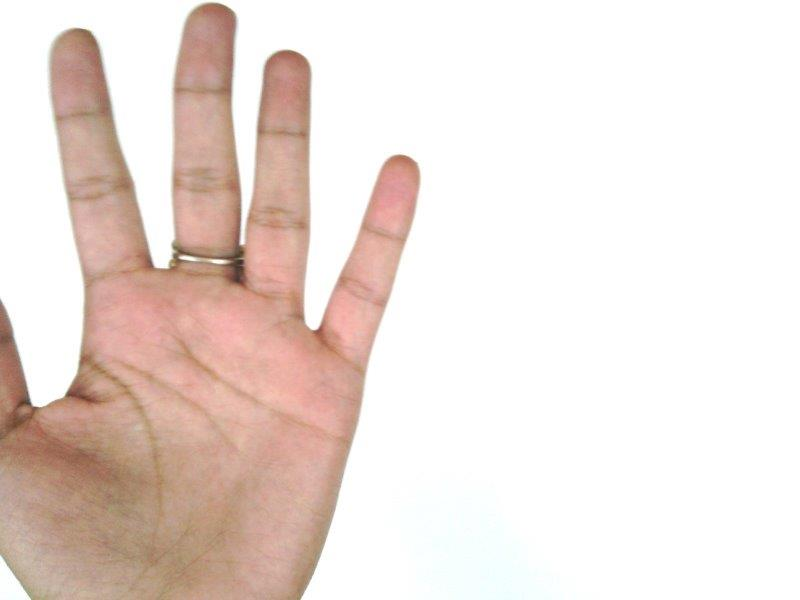hand: (1, 4, 420, 600)
